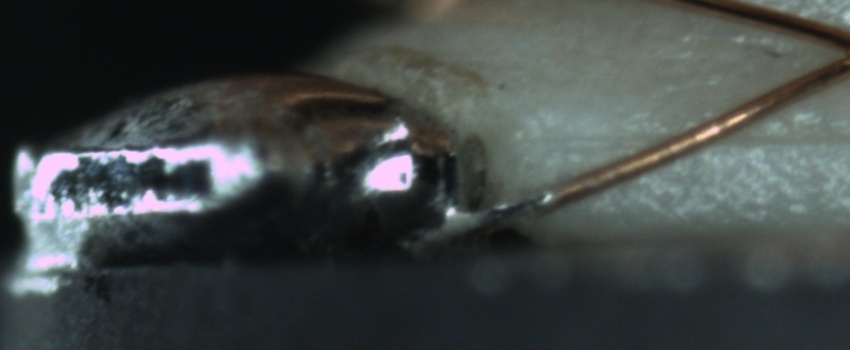DL: (543, 109, 850, 169)
